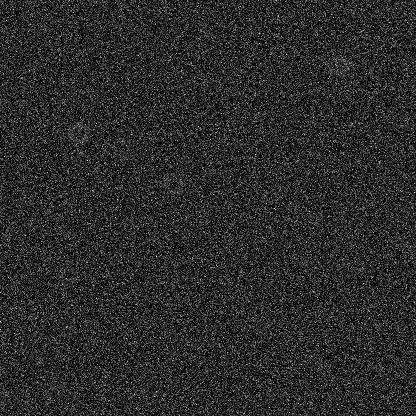Ring: (346, 319, 370, 343), (67, 120, 91, 144), (109, 136, 133, 160), (181, 203, 205, 227), (161, 171, 185, 195), (55, 264, 79, 288), (327, 54, 351, 78)
Spot: (352, 260, 368, 276)
